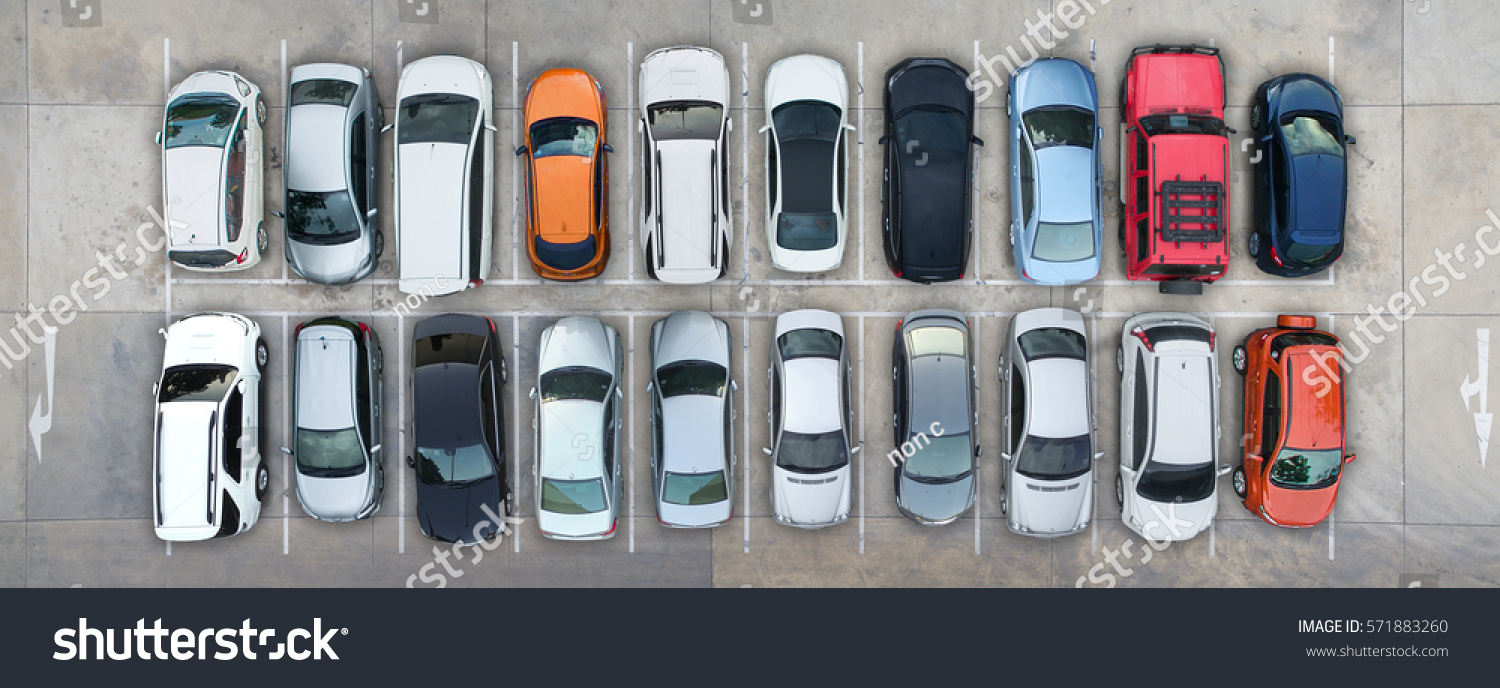Car: (1113, 38, 1234, 299), (149, 309, 274, 550), (383, 51, 498, 299), (272, 57, 390, 289), (1230, 316, 1352, 537), (1113, 312, 1223, 550), (634, 44, 736, 288), (1000, 57, 1106, 291), (1243, 72, 1356, 284), (409, 312, 510, 548), (161, 67, 271, 278), (996, 308, 1095, 540), (514, 62, 616, 287), (529, 314, 626, 549), (883, 52, 980, 286), (281, 314, 386, 530), (759, 49, 854, 277), (886, 311, 978, 530), (648, 309, 736, 533), (766, 307, 852, 533)
